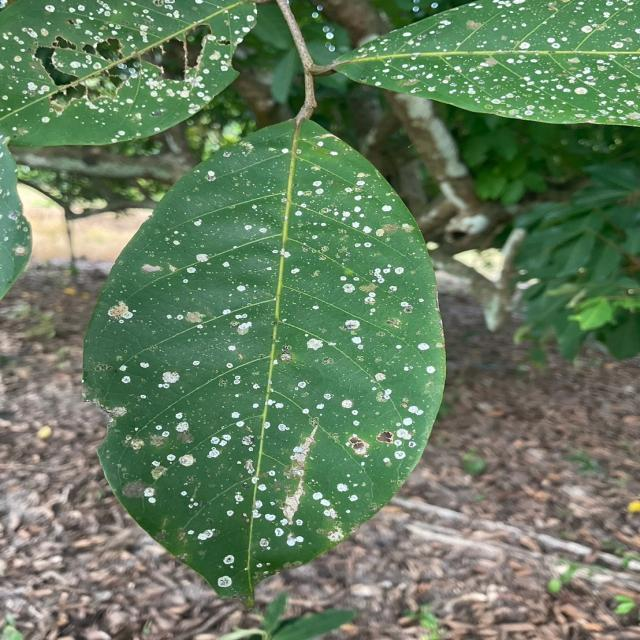Algal Leaf Spot: (144, 172, 410, 546), (13, 0, 279, 125), (387, 9, 640, 134)
